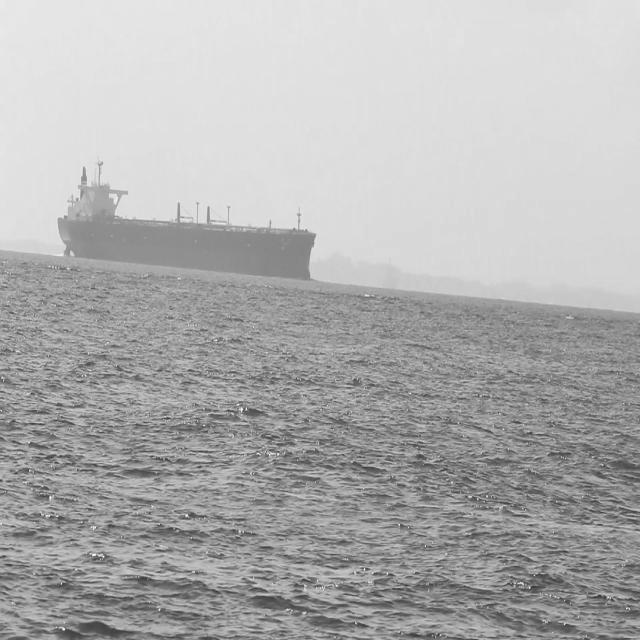ship: (54, 157, 316, 276)
